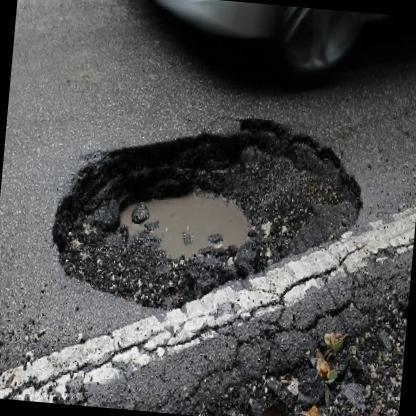pothole: (46, 112, 366, 312), (196, 277, 412, 416)
